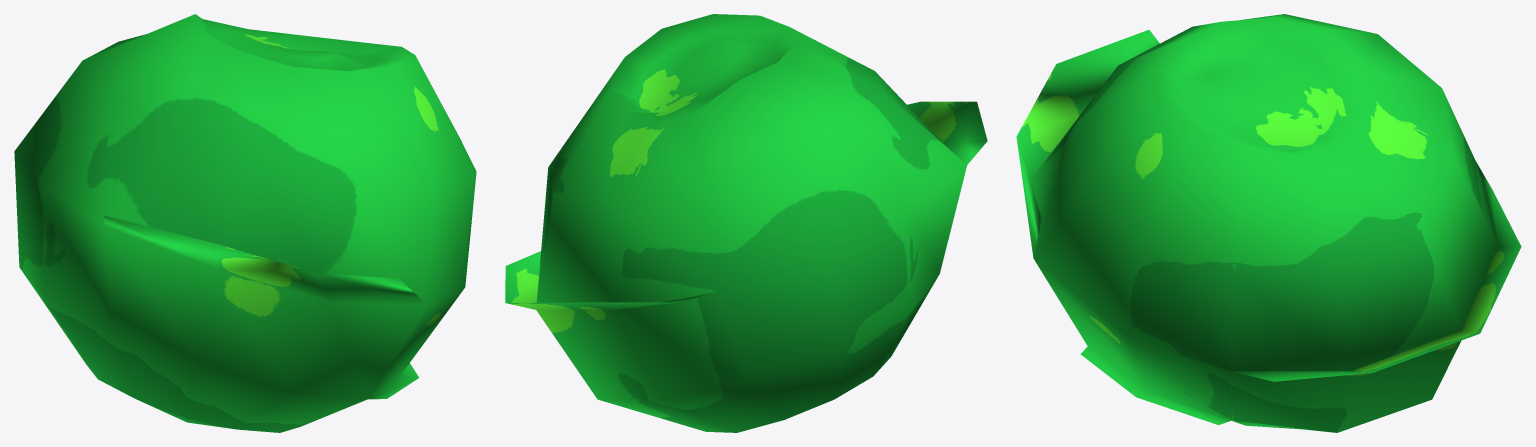
The model's file is Lettuce2.fbx.
The picture shows the model from 3 angles, left to right: view 1: azimuth 30°, elevation 25°; view 2: azimuth 150°, elevation 25°; view 3: azimuth 270°, elevation 25°; orthographic projection. The views are drawn at different scales.
Parts seen in each view (by area): view 1: Lettuce2; view 2: Lettuce2; view 3: Lettuce2.
Boxes of the visible parts, x1=… form: Lettuce2: x1=14, y1=14, x2=476, y2=432; Lettuce2: x1=505, y1=14, x2=987, y2=432; Lettuce2: x1=1016, y1=14, x2=1521, y2=432.
Bounding box in the file's own units: 77.17 × 69.99 × 84.45.
